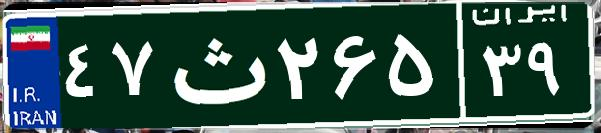2: (273, 28, 330, 110)
3: (475, 38, 525, 113)
4: (57, 26, 110, 107)
5: (385, 28, 445, 110)
6: (330, 28, 385, 110)
7: (110, 28, 158, 105)
9: (525, 38, 570, 115)
ث: (158, 15, 273, 115)
